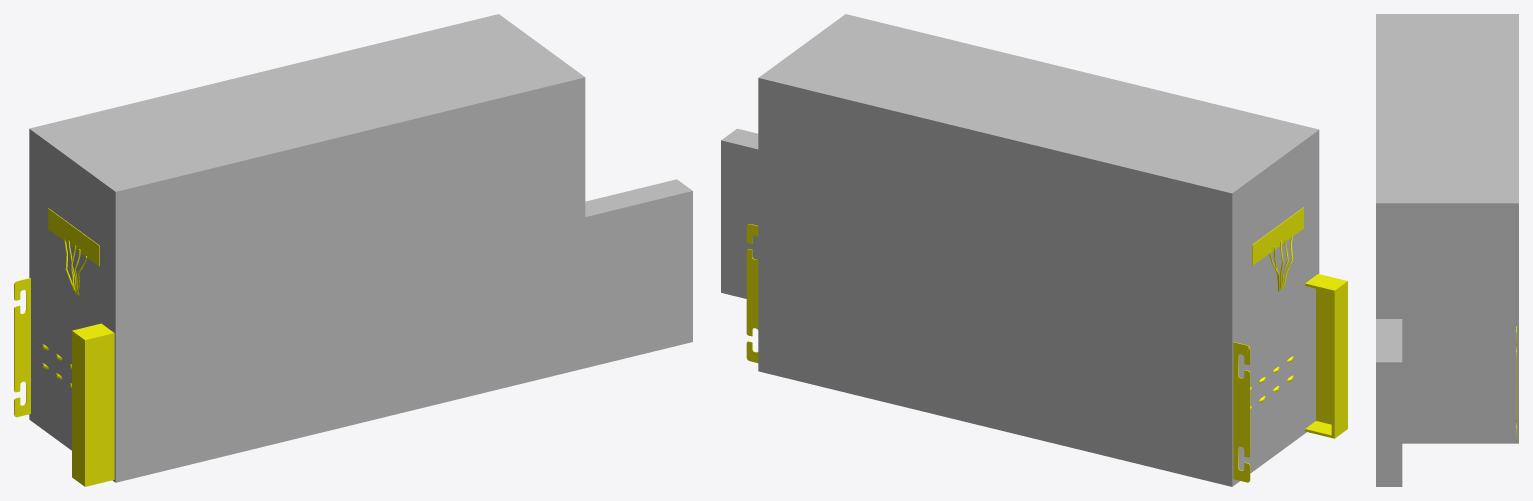
Rendered from sm_hana_bas_fcu.glb.
3 renders of one model, left to right at view 1: azimuth 30°, elevation 25°; view 2: azimuth 150°, elevation 25°; view 3: azimuth 270°, elevation 25°, orthographic. The views are drawn at different scales.
Visible parts, largest first — view 1: sm_color_common, sm_hana_bas_fcu; view 2: sm_color_common, sm_hana_bas_fcu; view 3: sm_color_common.
Part boxes in pixels (box(x1,y1,x2,y2)): sm_color_common: box(29, 14, 692, 482); sm_hana_bas_fcu: box(14, 208, 114, 486); sm_color_common: box(721, 14, 1319, 486); sm_hana_bas_fcu: box(746, 207, 1347, 482); sm_color_common: box(1376, 14, 1518, 486).
Size of the model in its own units: 0.8546 by 0.3917 by 0.2111.
2 materials, 1 textured.
